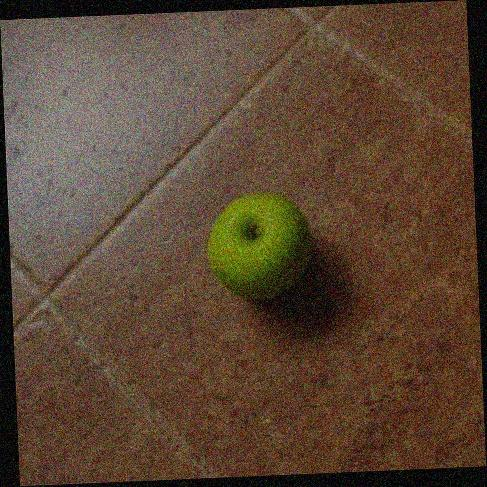green apple: (208, 192, 314, 302)
